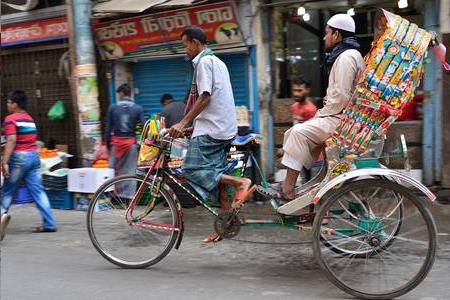Rickshaw: (87, 7, 433, 270)
